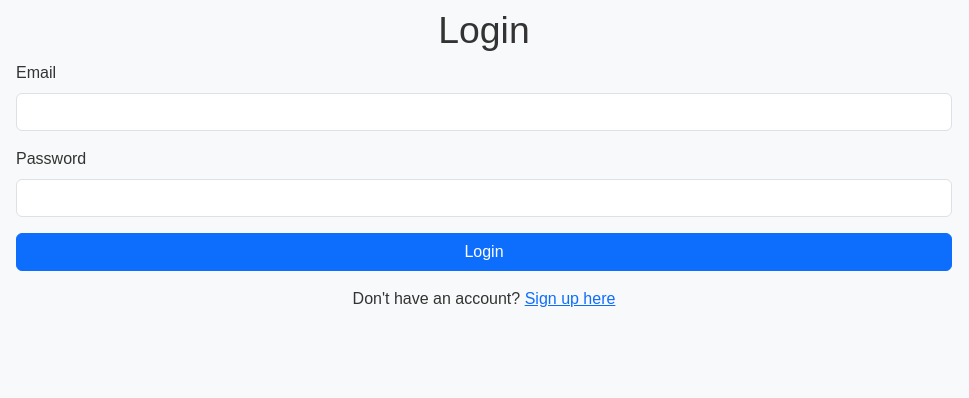
Login Component › displays an error message on login failure
Type "wrong@mail.com" into the field labelled "Email" at (484, 112), box 16,93 -> 952,131
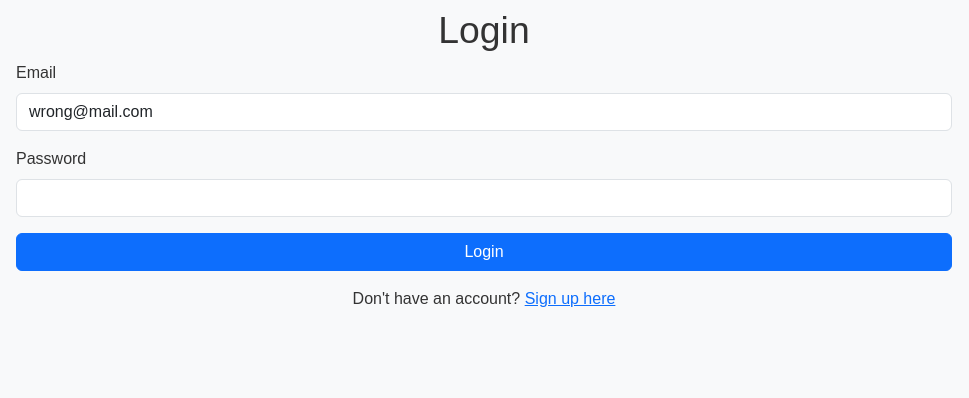
Type "wrongpass" into the password field labelled "Password" at (484, 198), box 16,179 -> 952,217
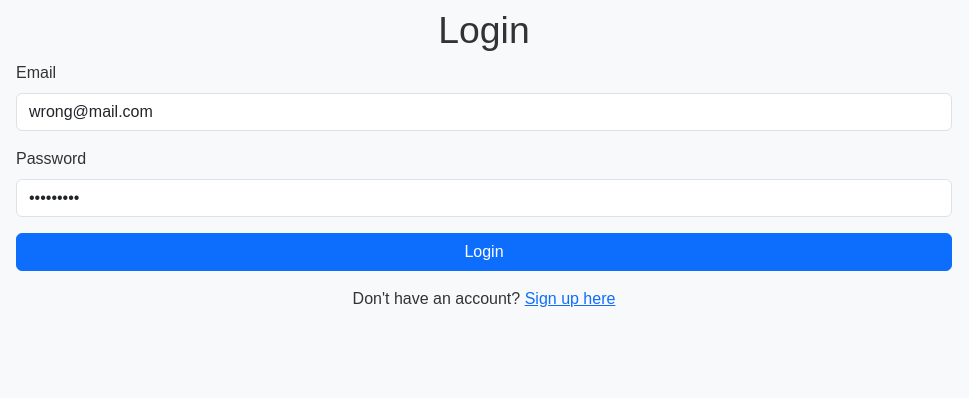
Click the button "Login" at (484, 252), box 16,233 -> 952,271
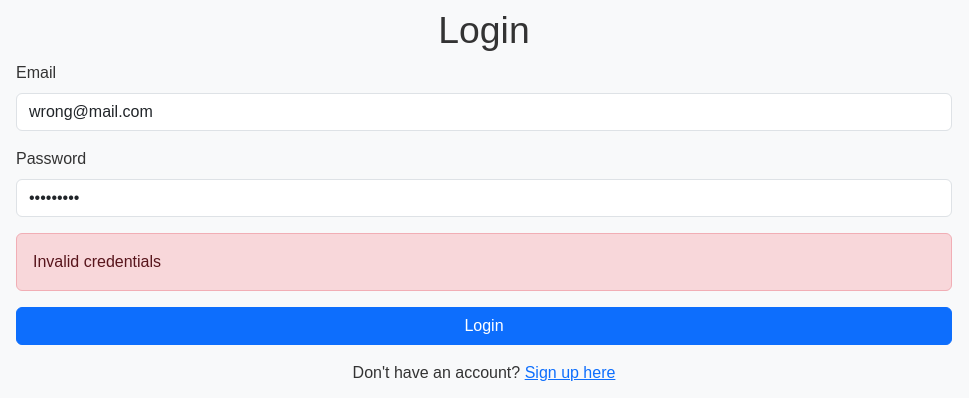
Now the text "Invalid credentials" is shown, box 16,233 -> 952,291
